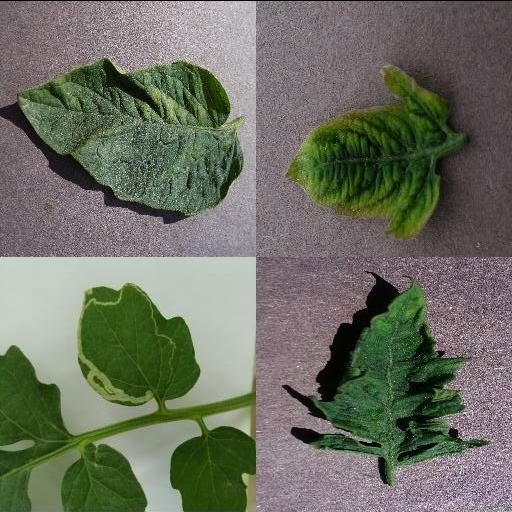Leaf Miner: (76, 284, 202, 407)
Mosaic Virus: (304, 275, 492, 465)
Spider Mites: (17, 56, 243, 214)
Yellow Leaf Curl Virus: (283, 63, 455, 241)
